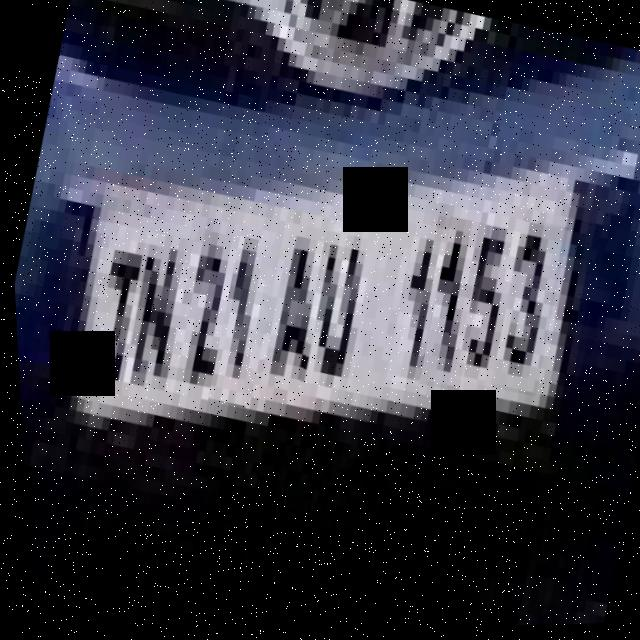1: (419, 225, 473, 387), (210, 240, 260, 402), (392, 231, 440, 384)
3: (493, 229, 553, 391)
5: (459, 221, 511, 383)
A: (259, 239, 313, 396)
N: (123, 239, 183, 394)
T: (94, 244, 141, 398)
U: (303, 233, 365, 398)
